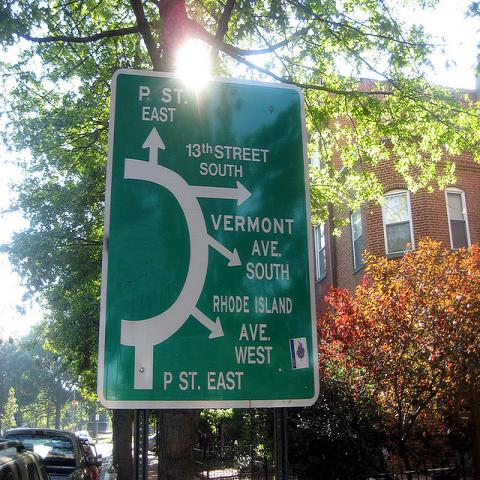car: (1, 429, 98, 479), (1, 444, 50, 479), (81, 438, 102, 480), (148, 432, 156, 452)
